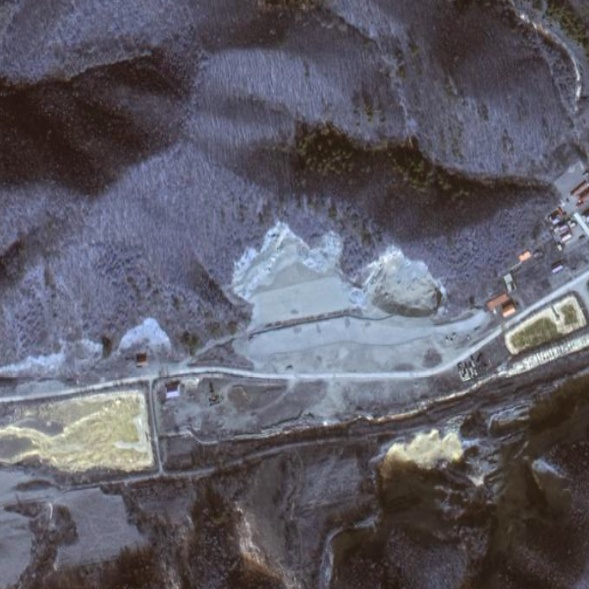slope: (224, 217, 452, 321), (230, 442, 374, 587), (0, 314, 175, 380), (374, 421, 469, 506)
